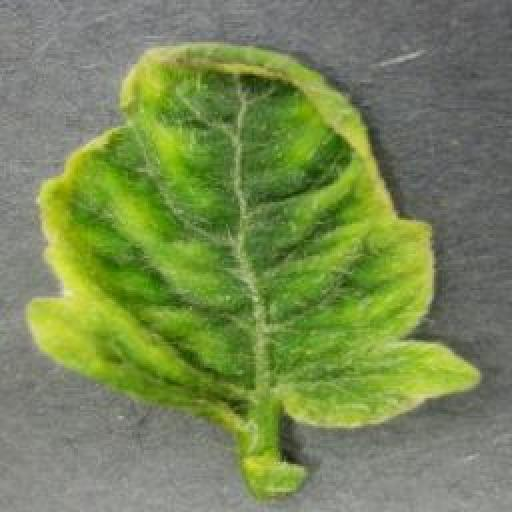disease_tomato: (24, 38, 483, 430)
